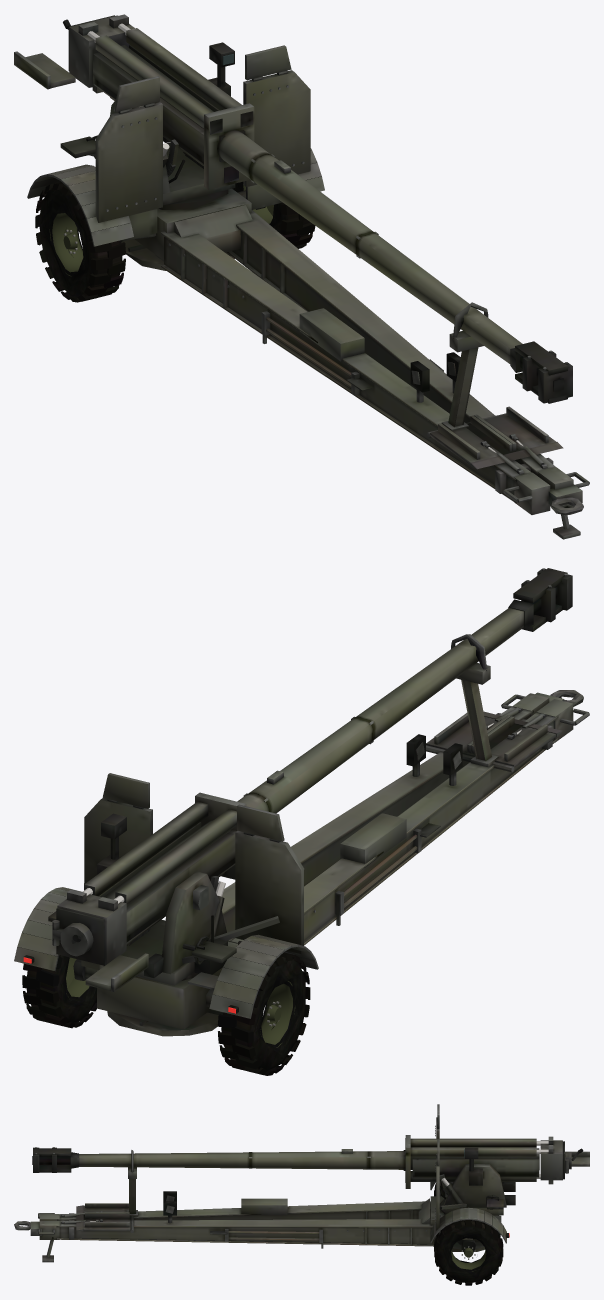
Rendered from towed-howitzer_card.glb.
3 views of the same model, one above another, from view 1: azimuth 30°, elevation 25°; view 2: azimuth 150°, elevation 25°; view 3: azimuth 270°, elevation 25° (orthographic). The views are drawn at different scales.
Visible parts, largest first — view 1: barrel_mesh, trail_R_mesh, carriage_mesh, trail_L_mesh, body, wheel_R_mesh, wheel_L_mesh; view 2: barrel_mesh, carriage_mesh, trail_R_mesh, body, trail_L_mesh, wheel_R_mesh, wheel_L_mesh, breech_block_mesh; view 3: barrel_mesh, trail_L_mesh, trail_R_mesh, carriage_mesh, wheel_L_mesh, body.
Part boxes in pixels (x1,y1,x2,y2): barrel_mesh: (14,14,572,403); trail_R_mesh: (161,231,550,514); carriage_mesh: (60,42,310,241); trail_L_mesh: (227,210,589,539); body: (27,148,324,270); wheel_R_mesh: (35,181,125,302); wheel_L_mesh: (232,181,315,248); barrel_mesh: (56,568,572,992); carriage_mesh: (48,773,304,989); trail_R_mesh: (231,634,589,945); body: (14,887,318,1036); trail_L_mesh: (222,690,583,941); wheel_R_mesh: (217,952,310,1075); wheel_L_mesh: (22,955,96,1028); breech_block_mesh: (52,920,93,956); barrel_mesh: (32,1135,589,1194); trail_L_mesh: (14,1201,434,1262); trail_R_mesh: (38,1150,430,1220); carriage_mesh: (435,1104,515,1238); wheel_L_mesh: (434,1220,503,1285); body: (418,1182,509,1252).
Size of the model in its own units: 2.56 by 2.38 by 9.72.
7 materials, 2 textured.
